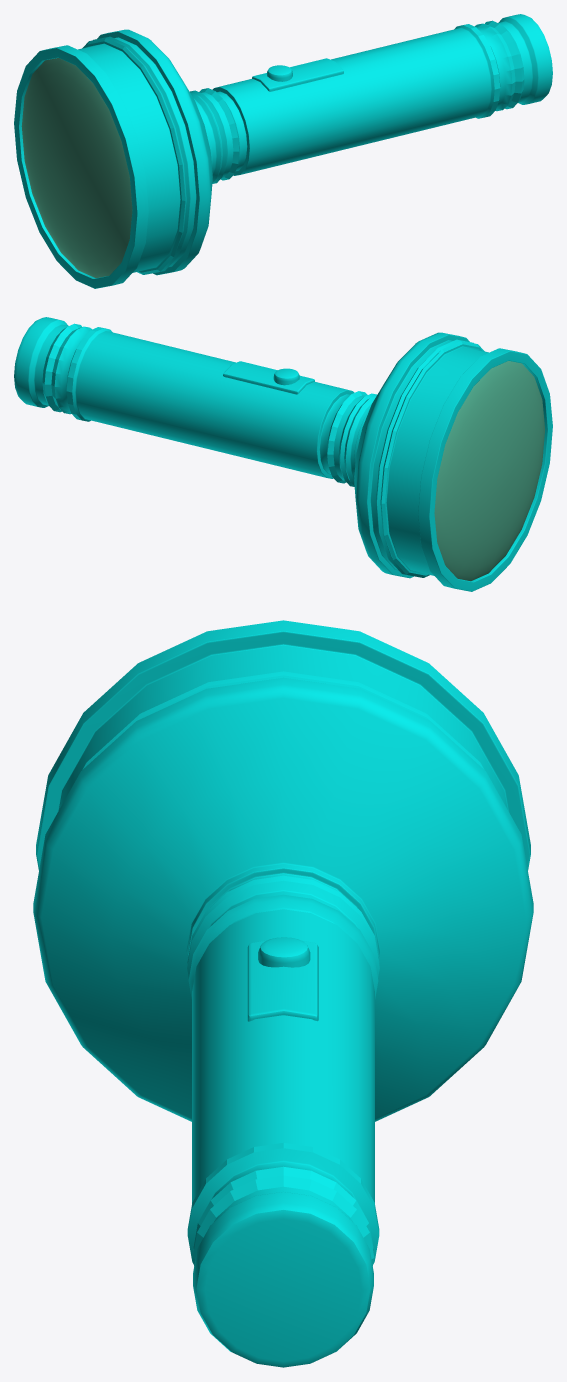
The model's file is Flashlight_low.fbx.
3 views of the same model, one above another, from view 1: azimuth 30°, elevation 25°; view 2: azimuth 150°, elevation 25°; view 3: azimuth 270°, elevation 25° (orthographic). The views are drawn at different scales.
Parts seen in each view (by area): view 1: flashlight_vitre, flashlight; view 2: flashlight_vitre, flashlight; view 3: flashlight_vitre.
Part boxes in pixels (box(x1,y1,x2,y2)): flashlight_vitre: box(14, 14, 552, 288); flashlight: box(21, 58, 132, 278); flashlight_vitre: box(14, 317, 552, 591); flashlight: box(434, 361, 545, 581); flashlight_vitre: box(33, 620, 533, 1367).
Size of what is drawn, in the model's own units: 27.04 by 12.49 by 12.49.
